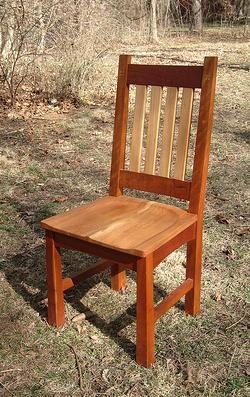obstacle: (42, 55, 217, 366)
